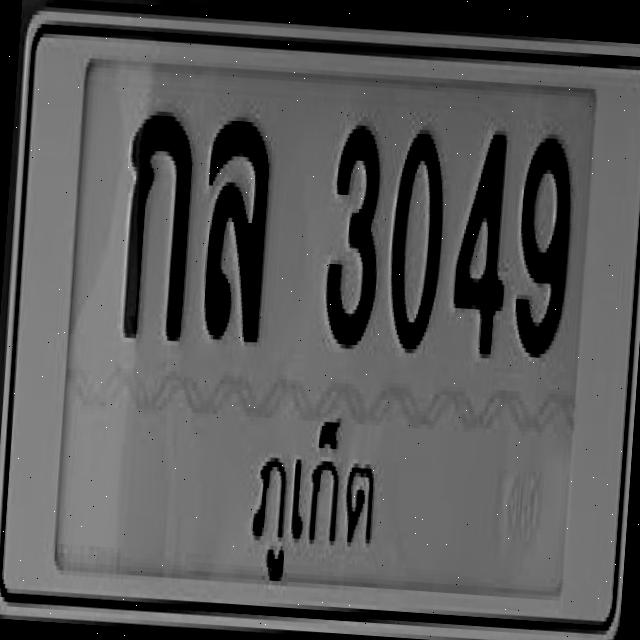0: (376, 108, 454, 396)
10GorGai: (101, 89, 210, 383)
3: (310, 103, 400, 394)
4: (444, 90, 524, 400)
45LorLing: (184, 94, 285, 386)
9: (495, 122, 586, 414)
Phuket: (238, 404, 390, 590)
